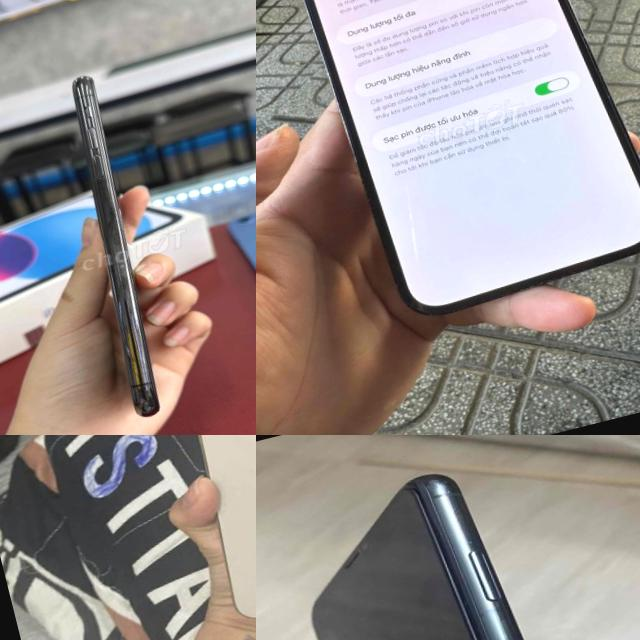gen_11: (271, 443, 640, 640)
gen_12_13: (153, 435, 256, 640)
gen_14: (279, 0, 640, 333)
gen_x_xs: (28, 61, 186, 424)
